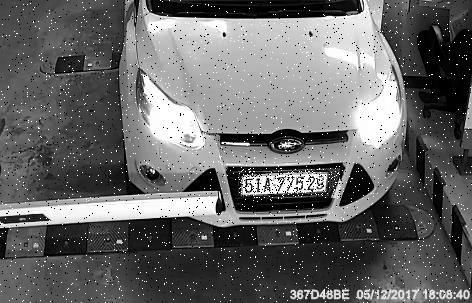License-plate: (240, 169, 343, 199)
